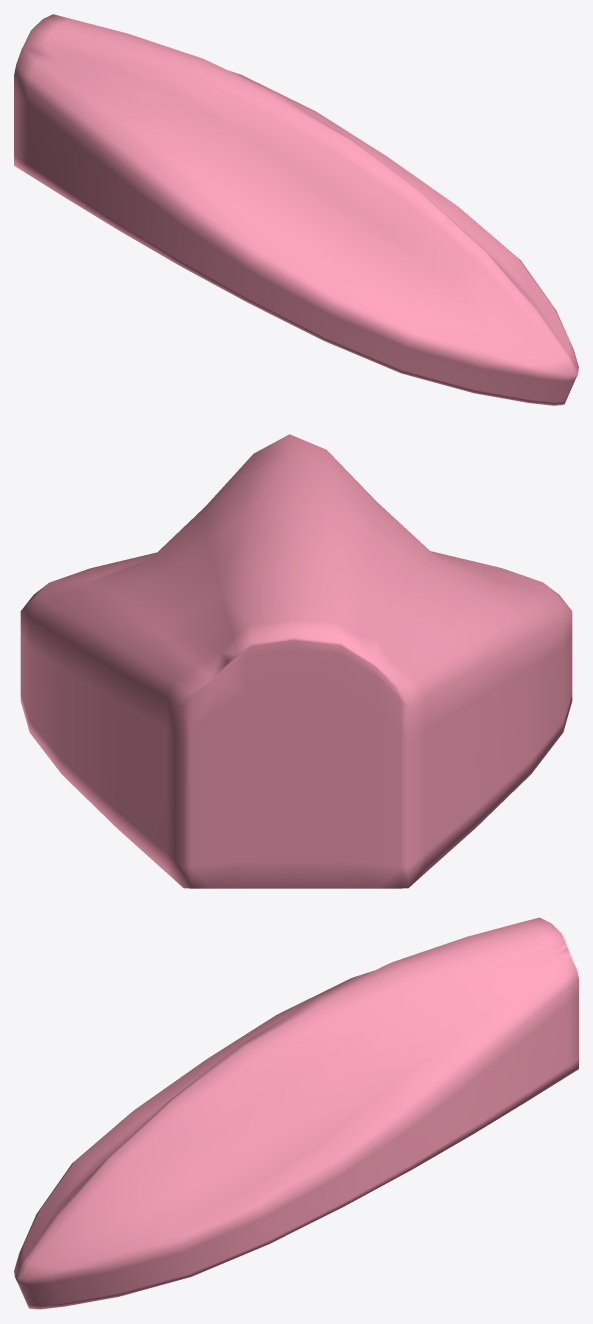
3 views of the same model, one above another, from view 1: azimuth 30°, elevation 25°; view 2: azimuth 150°, elevation 25°; view 3: azimuth 270°, elevation 25° (orthographic). The views are drawn at different scales.
Parts seen in each view (by area): view 1: Plane354; view 2: Plane354; view 3: Plane354.
Boxes of the visible parts, x1,y1,x2,y2 form: Plane354: [14, 14, 578, 405]; Plane354: [20, 434, 572, 888]; Plane354: [14, 917, 578, 1309].
Size of the model in its own units: 0.0567 by 0.0415 by 0.0824.
